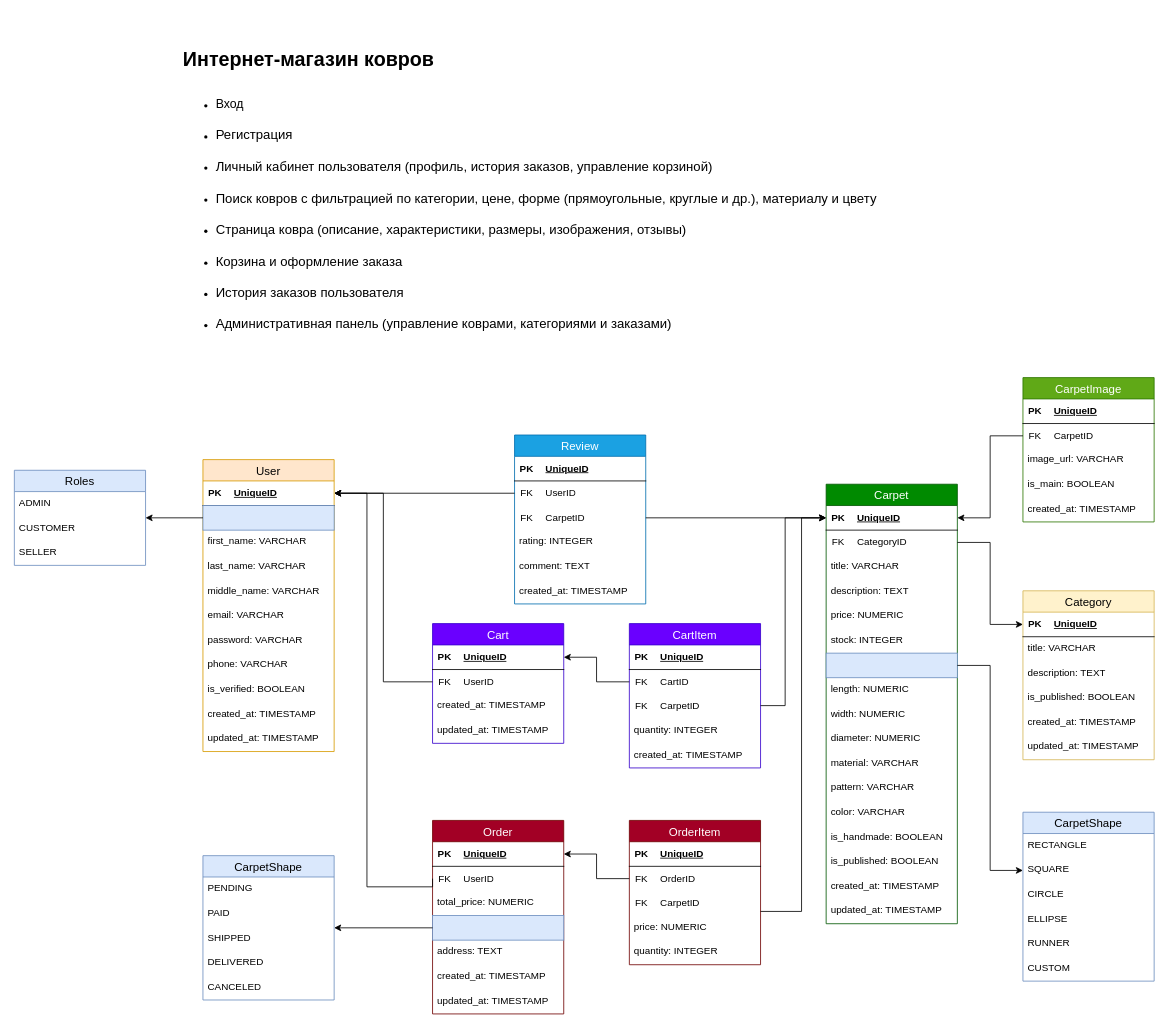
Image size: 1169x1030. Some labels were removed from this diagram. The shapes that lost their labels are listed below. From the top down, each one's centre as x and y in pixels, then its label:
At pixel 268 517: "role: ENUM".
At pixel 891 665: "shape: ENUM".
At pixel 498 927: "status: ENUM".
